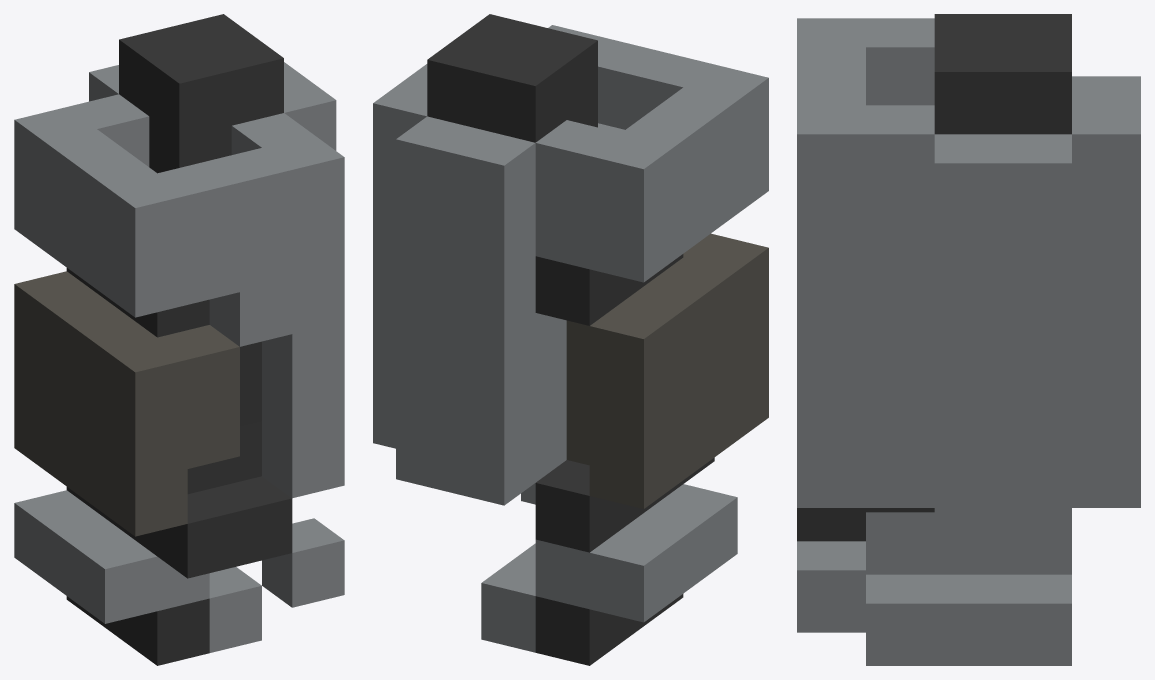
Rendered from Mecha01_right_hand.obj.
The picture shows the model from 3 angles, left to right: view 1: azimuth 30°, elevation 25°; view 2: azimuth 150°, elevation 25°; view 3: azimuth 270°, elevation 25°; orthographic projection. The views are drawn at different scales.
Size of the model in its own units: 0.5 by 1 by 0.5.
1 material, 1 textured.
